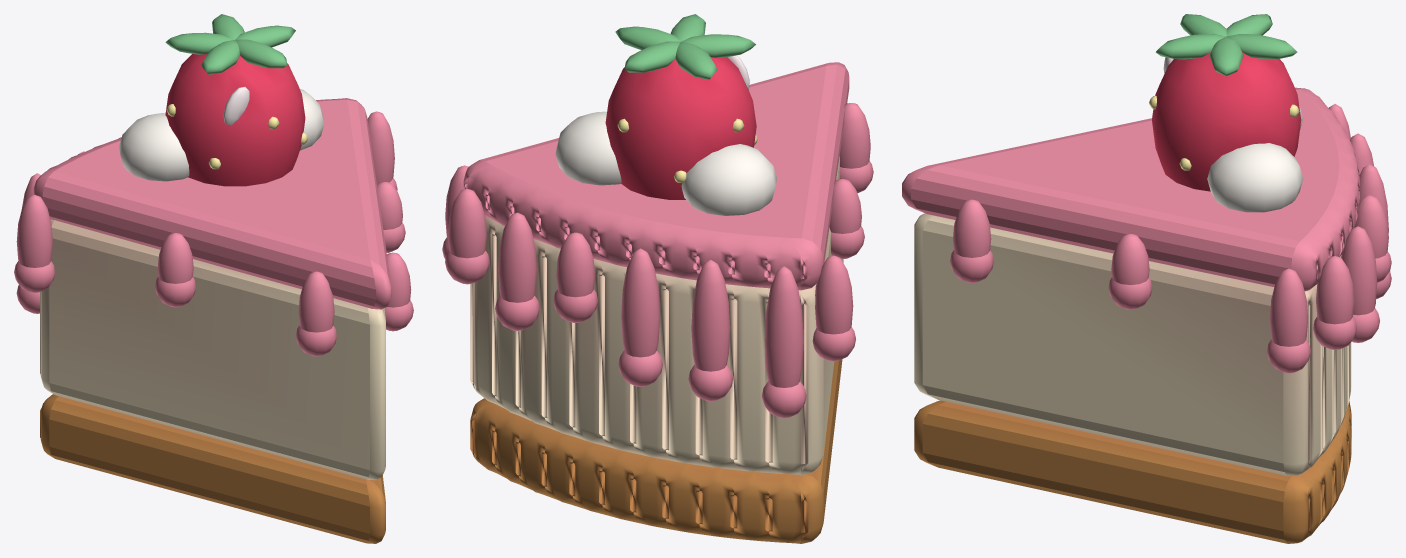
The model's file is cheesecake.glb.
3 views of the same model, side by side, from view 1: azimuth 30°, elevation 25°; view 2: azimuth 150°, elevation 25°; view 3: azimuth 270°, elevation 25° (orthographic). The views are drawn at different scales.
Parts seen in each view (by area): view 1: cake, gf48fa8, crust, berry_body, cfffaf3, c7cc68a, berry_shine; view 2: gf48fa8, cake, crust, berry_body, cfffaf3, c7cc68a; view 3: cake, gf48fa8, crust, berry_body, cfffaf3, c7cc68a.
Part boxes in pixels (x1=…): cake: x1=40, y1=219, x2=385, y2=480; gf48fa8: x1=14, y1=98, x2=413, y2=356; crust: x1=40, y1=394, x2=385, y2=543; berry_body: x1=165, y1=53, x2=305, y2=186; cfffaf3: x1=119, y1=89, x2=324, y2=181; c7cc68a: x1=165, y1=14, x2=295, y2=74; berry_shine: x1=223, y1=87, x2=249, y2=125; gf48fa8: x1=442, y1=62, x2=873, y2=418; cake: x1=470, y1=156, x2=843, y2=475; crust: x1=470, y1=359, x2=842, y2=543; berry_body: x1=605, y1=57, x2=756, y2=199; cfffaf3: x1=555, y1=111, x2=776, y2=215; c7cc68a: x1=615, y1=14, x2=755, y2=79; cake: x1=914, y1=213, x2=1351, y2=476; gf48fa8: x1=902, y1=87, x2=1391, y2=373; crust: x1=914, y1=400, x2=1351, y2=543; berry_body: x1=1152, y1=52, x2=1301, y2=191; cfffaf3: x1=1207, y1=105, x2=1303, y2=212; c7cc68a: x1=1156, y1=14, x2=1297, y2=76.
Bounding box in the file's own units: 0.4348 × 0.45 × 0.4587.
